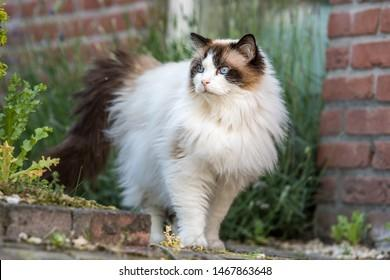ragdoll: (181, 20, 266, 115)
